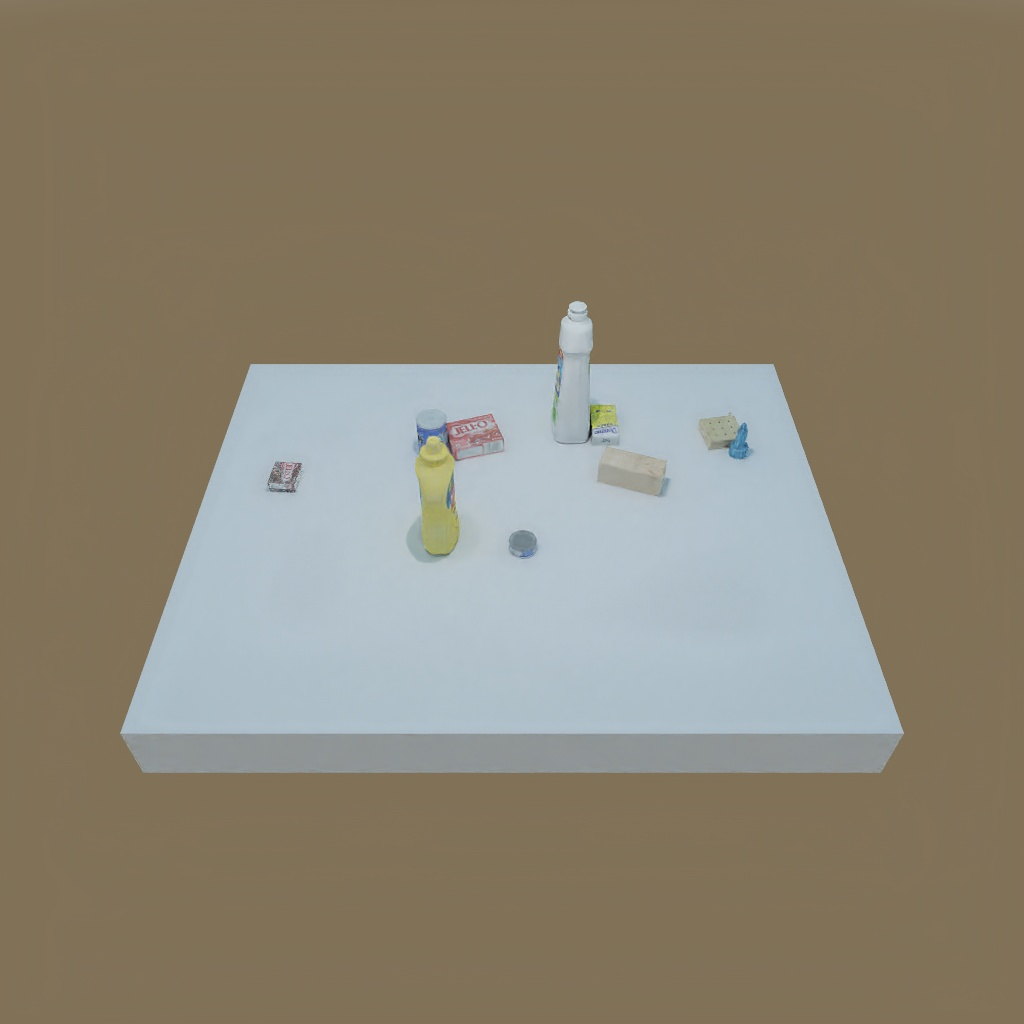gelatin_box: (442, 411, 505, 455)
master_chef_can: (407, 407, 449, 454)
mustard_bottle: (411, 441, 470, 554)
nine_hole_peg_test: (691, 412, 742, 450)
pudding_box: (268, 458, 303, 495)
wood_block: (590, 445, 668, 498)
